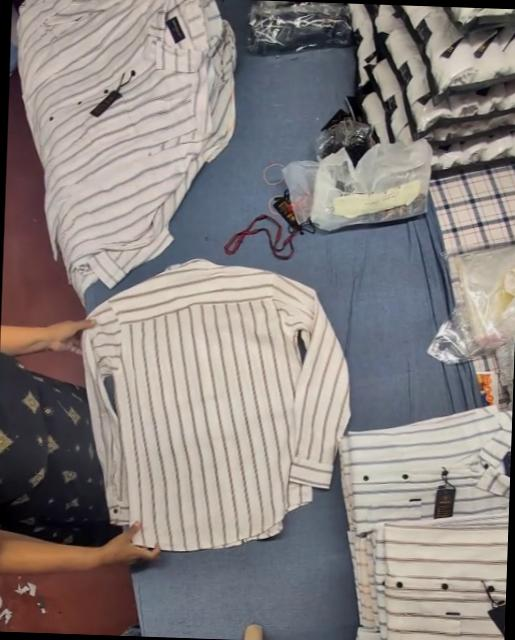new-garment: (82, 260, 348, 550)
